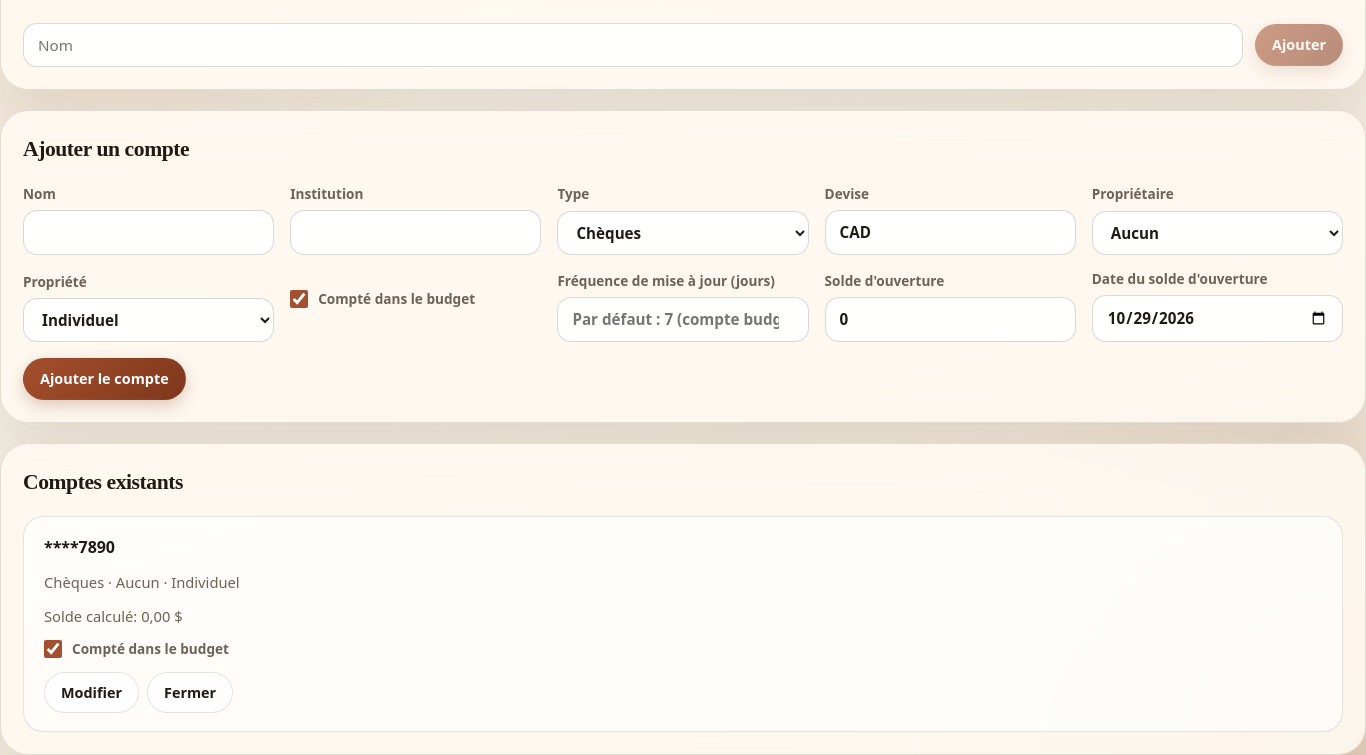
Test: FinanceAccountsPage › edits an existing account in place, keeping its id and key
This screenshot has width=1366, height=755.
(page scrolled)
Click the button "Modifier" at {"x": 92, "y": 692}, box [44,672,139,713]
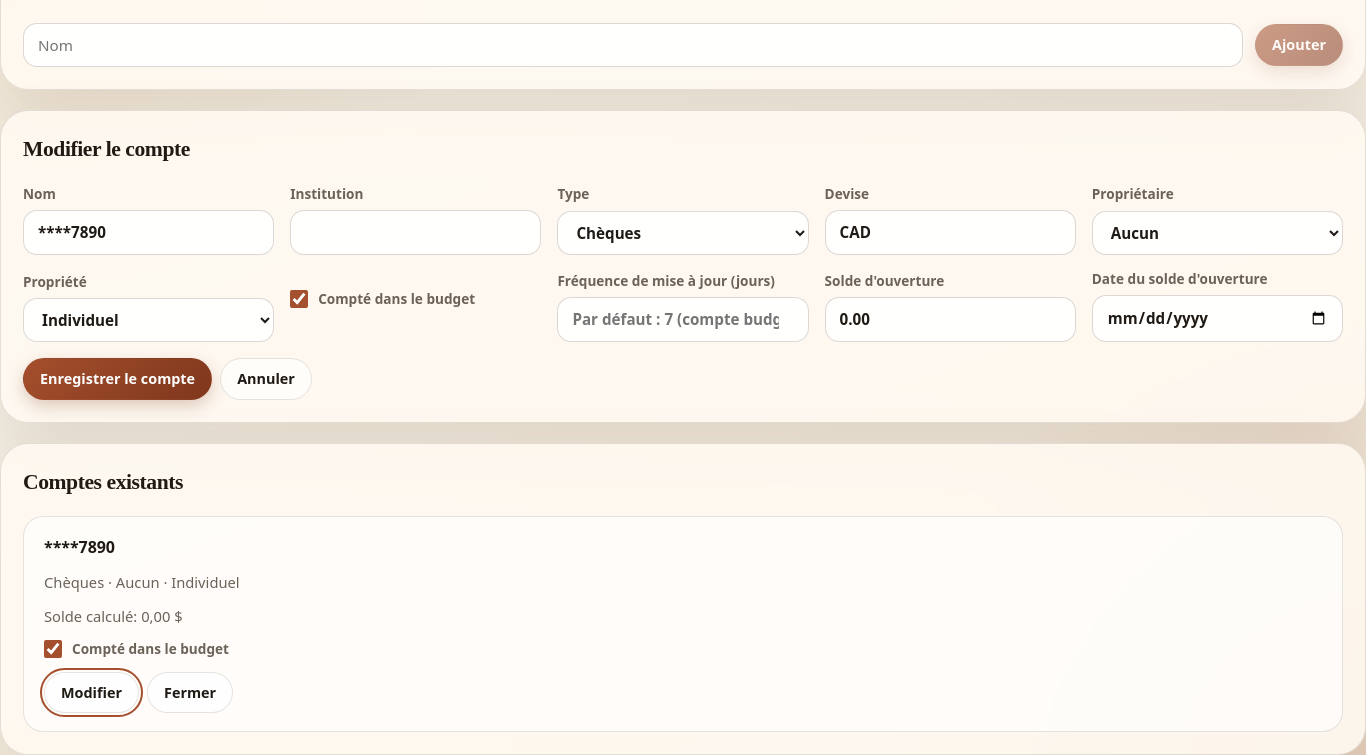
Replace the text in the field labelled "Nom" below "Institution" with "Chèques" at {"x": 149, "y": 232}, box [23,210,274,255]
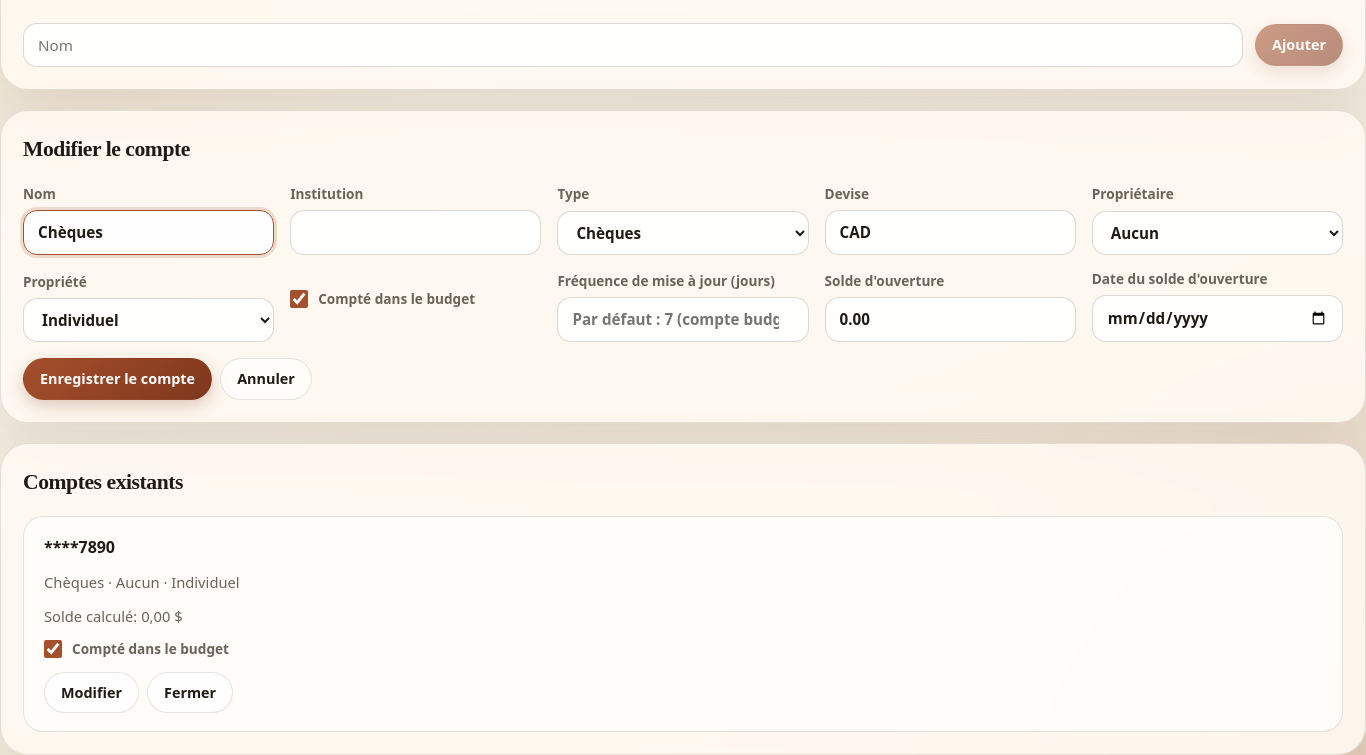
Replace the text in the field labelled "Solde d'ouverture" with "250.00" at {"x": 950, "y": 320}, box [825,297,1076,342]
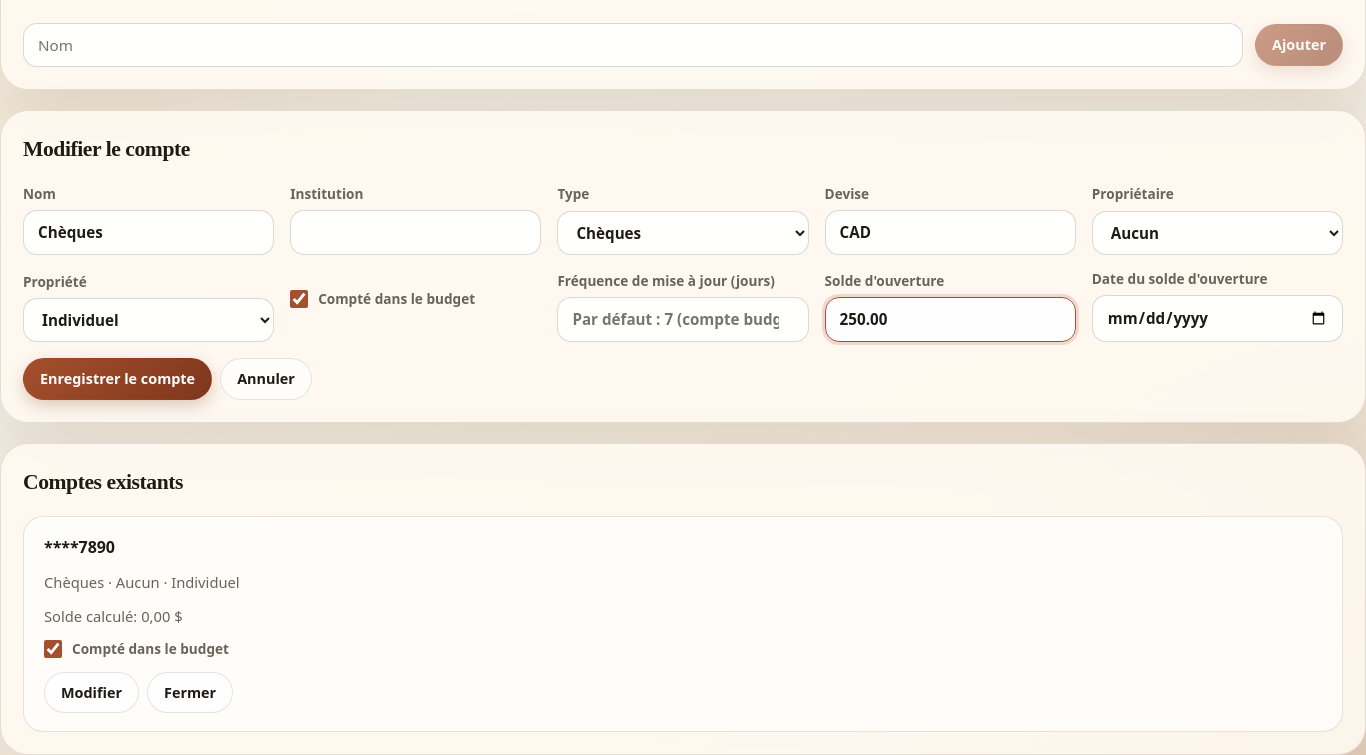
Click the button "Enregistrer le compte" at {"x": 118, "y": 379}, box [23,358,212,400]
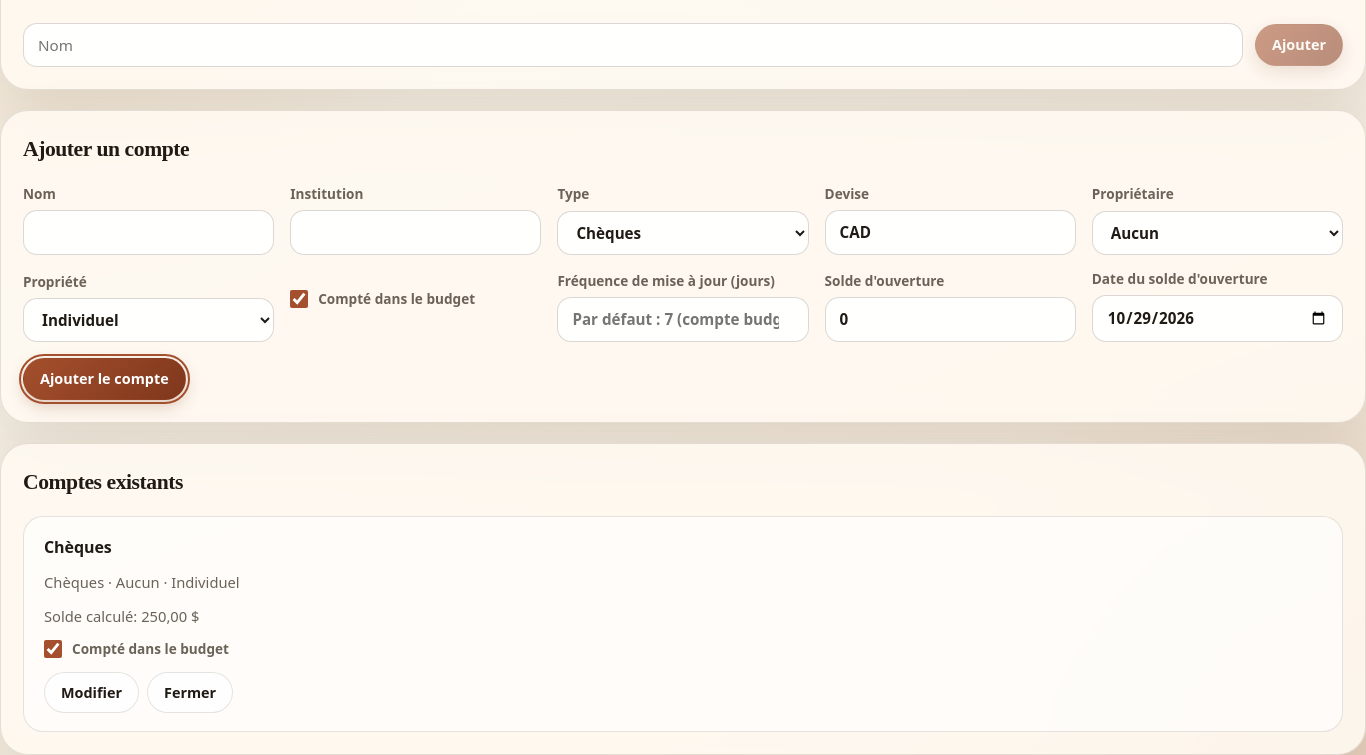
Expected: the heading "Chèques" is shown, [44,536,112,558]
